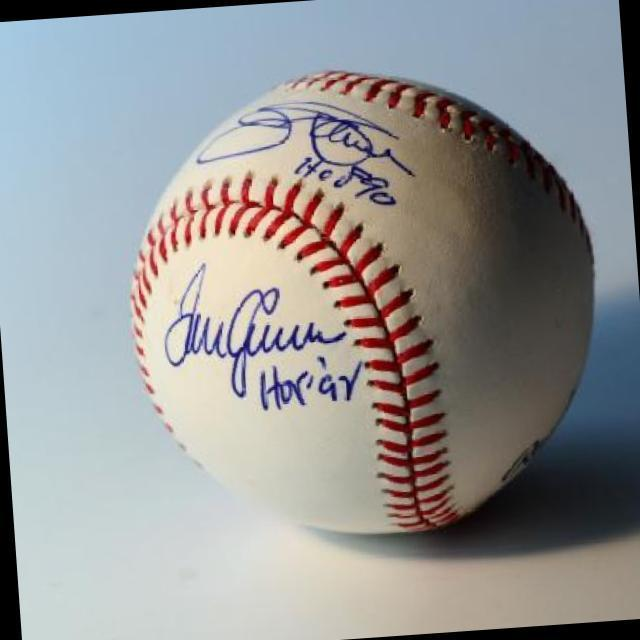-: (133, 42, 596, 543)
